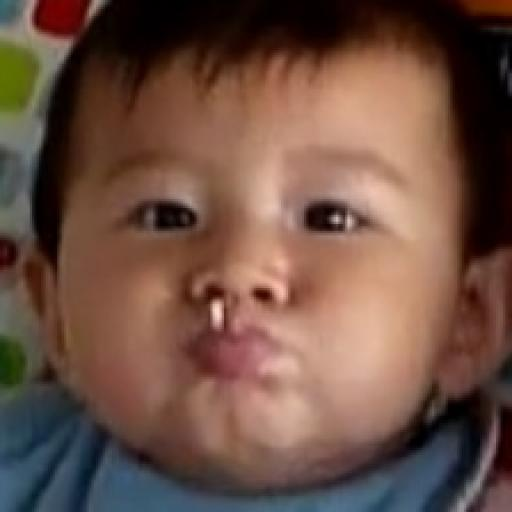Autism: (102, 34, 512, 486)
